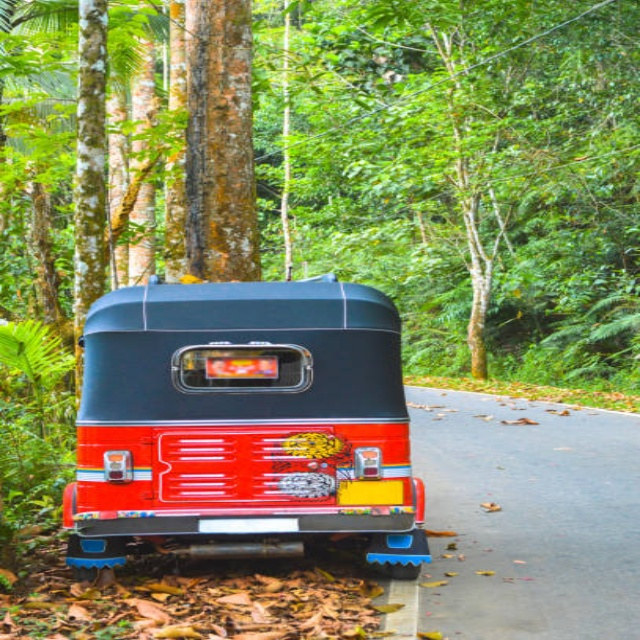Motorcycle: (63, 276, 425, 580)
